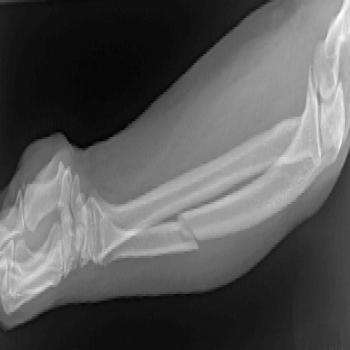Fracture: (175, 205, 200, 252)
